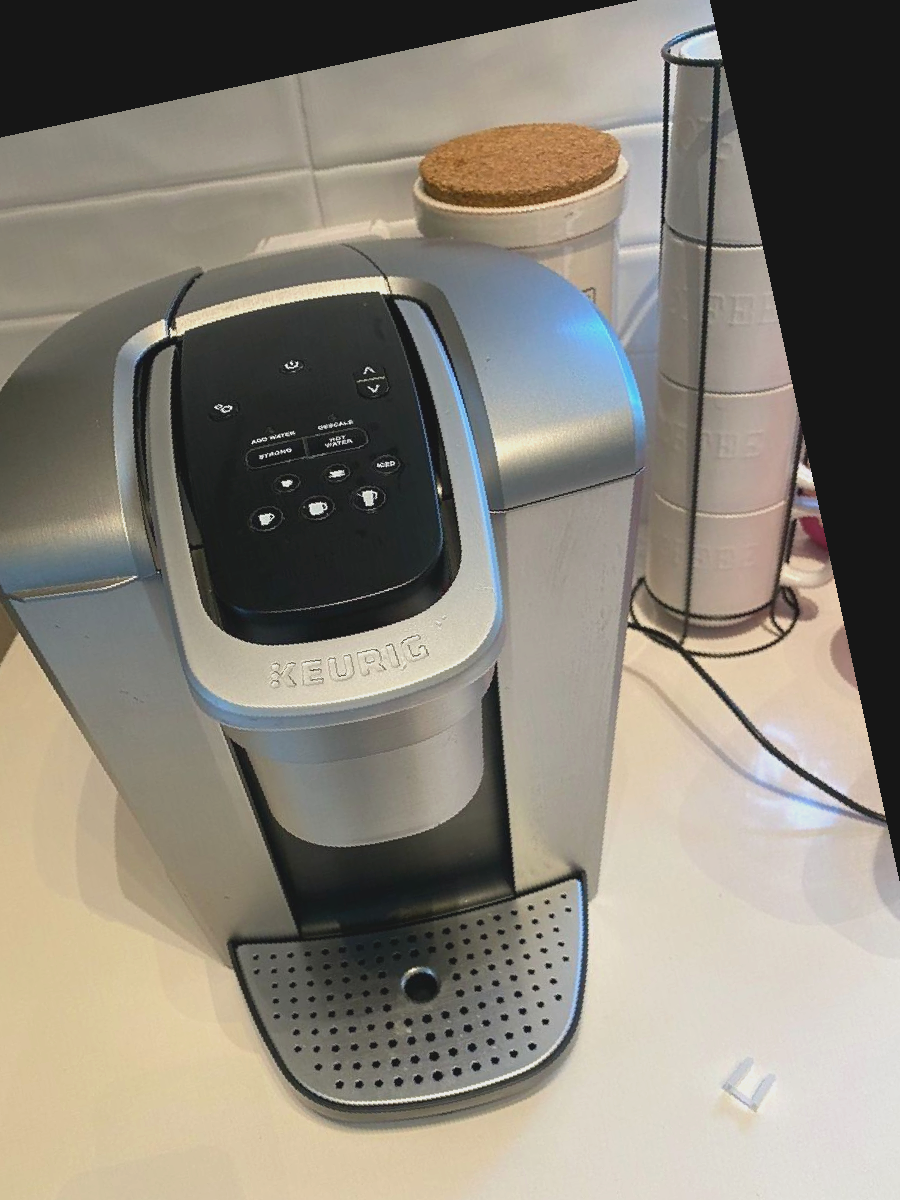10oz: (299, 494, 337, 524)
12oz: (350, 484, 388, 514)
4oz: (270, 474, 306, 495)
6oz: (321, 463, 356, 485)
8oz: (246, 504, 285, 537)
add_water: (234, 415, 302, 450)
coffee_handle: (239, 664, 480, 751)
descale: (299, 400, 367, 435)
hot: (304, 421, 374, 461)
iced: (369, 455, 404, 476)
platform: (393, 958, 450, 1012)
power: (277, 354, 310, 380)
strong: (241, 436, 310, 476)
water_handle: (4, 565, 141, 611)
